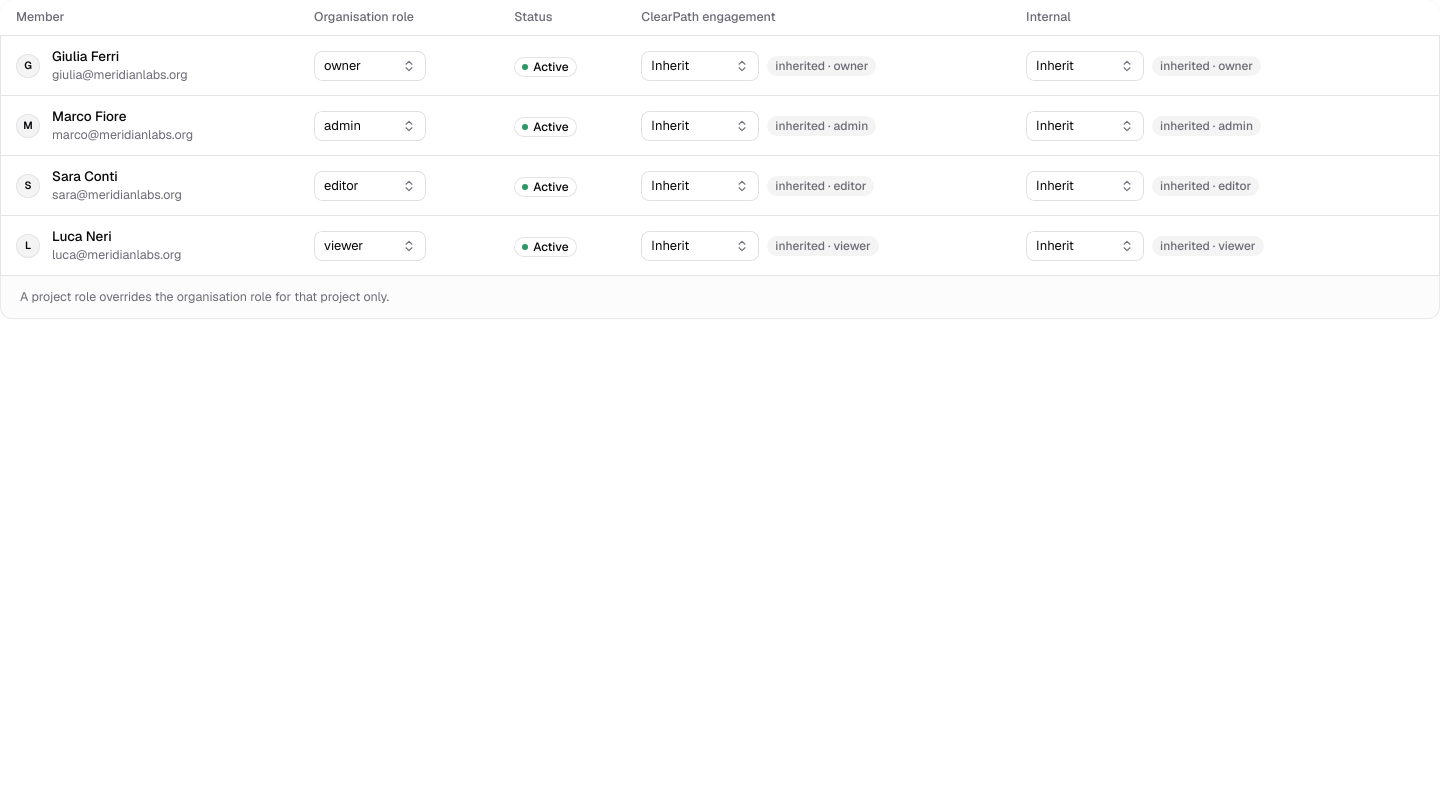
Test: MembersTab › changing a project role › sets the role on that project only, says so and refreshes
The image size is (1440, 810).
Expected: the text "Sara Conti" is shown, left=52, top=167, right=118, bottom=185
Select "admin" in the dropdown named "Internal" in the row of "Sara Conti": (1085, 186) left=1026, top=170, right=1144, bottom=200
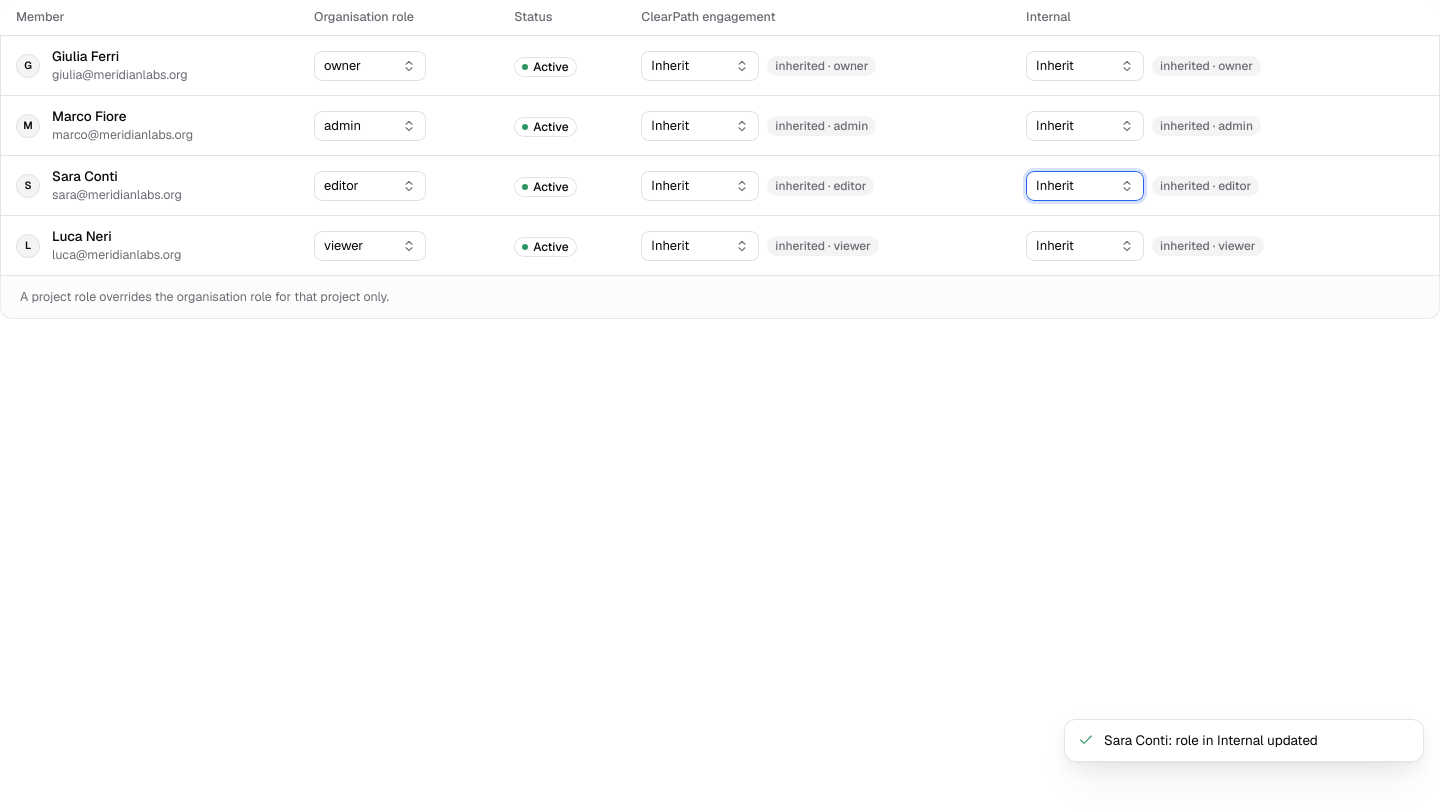
Expected: the text "Sara Conti: role in Internal updated" is shown, left=1104, top=731, right=1318, bottom=749
